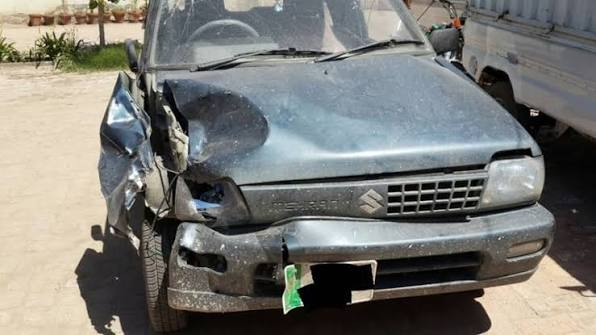Headlight-damage: (145, 163, 240, 234)
front-bumper-dent: (148, 220, 546, 315)
